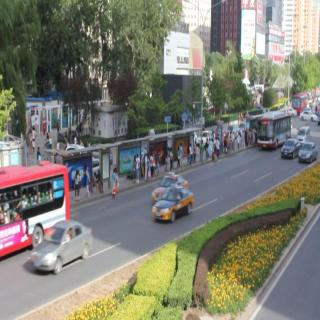BigCar: (1, 165, 69, 256), (255, 113, 294, 152)
Car: (32, 216, 95, 274), (153, 185, 194, 223), (298, 138, 318, 164), (282, 138, 298, 158), (295, 124, 310, 140)
